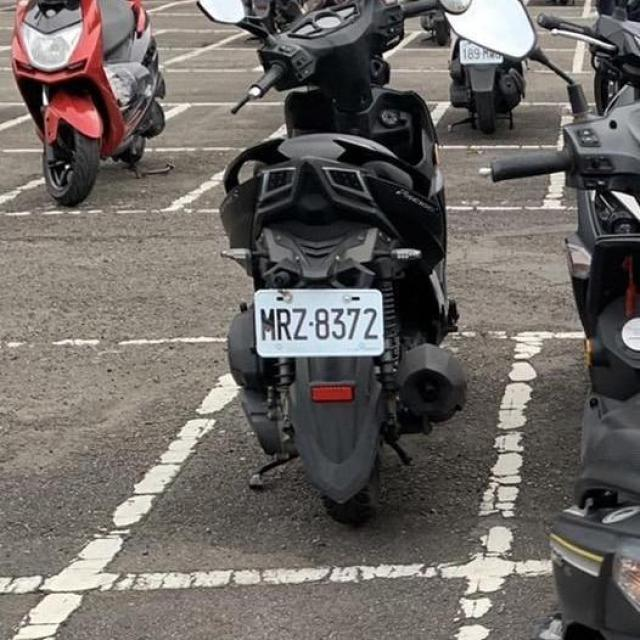W: (251, 286, 388, 361)
